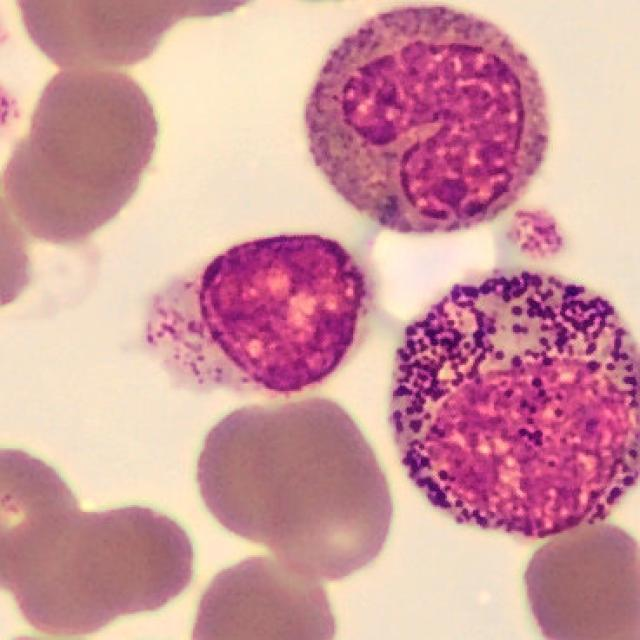Bastonete: (304, 7, 550, 235)
Linfocito: (144, 235, 369, 398)
Promielocito: (393, 272, 640, 540)
